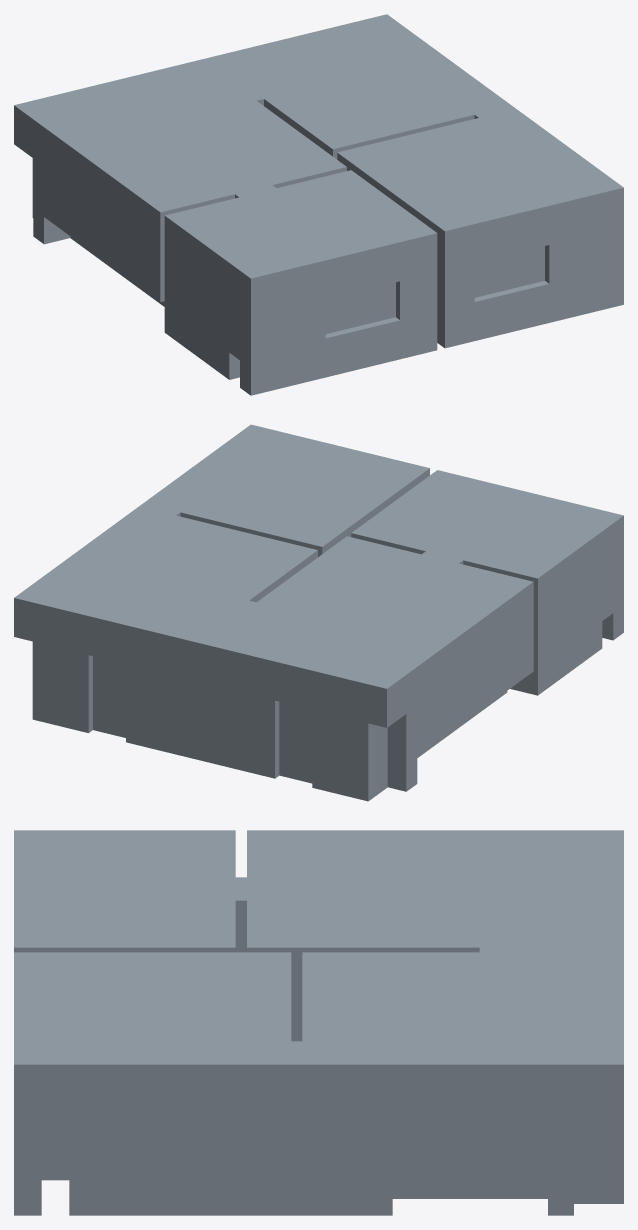
The model's file is MAPIRlab_inner.dae.
3 views of the same model, one above another, from view 1: azimuth 30°, elevation 25°; view 2: azimuth 150°, elevation 25°; view 3: azimuth 270°, elevation 25° (orthographic). The views are drawn at different scales.
Visible parts, largest first — view 1: 5d15d505392ad0174b4d1ba6; view 2: 5d15d505392ad0174b4d1ba6; view 3: 5d15d505392ad0174b4d1ba6.
Boxes of the visible parts, <box> form: 5d15d505392ad0174b4d1ba6: <box>14,14,623,395</box>; 5d15d505392ad0174b4d1ba6: <box>14,424,623,801</box>; 5d15d505392ad0174b4d1ba6: <box>14,830,623,1215</box>.
Bounding box in the file's own units: 10 × 11 × 3.
